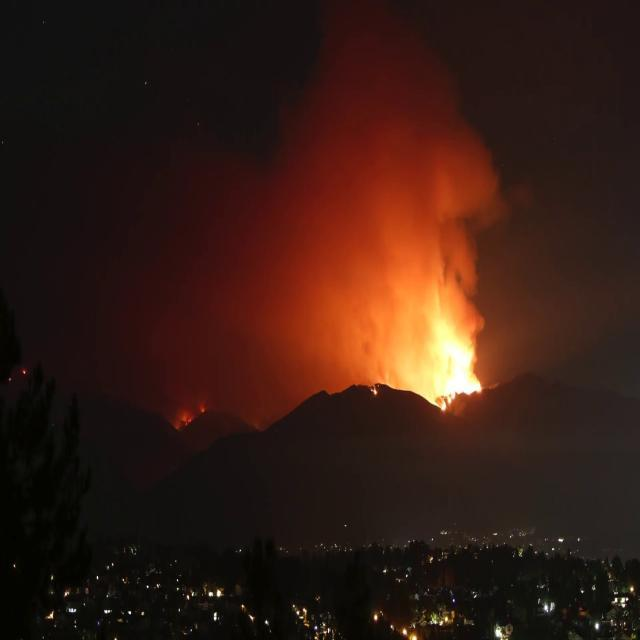Fire: (423, 308, 484, 411), (370, 384, 378, 396)
Smoke: (138, 53, 498, 437)
